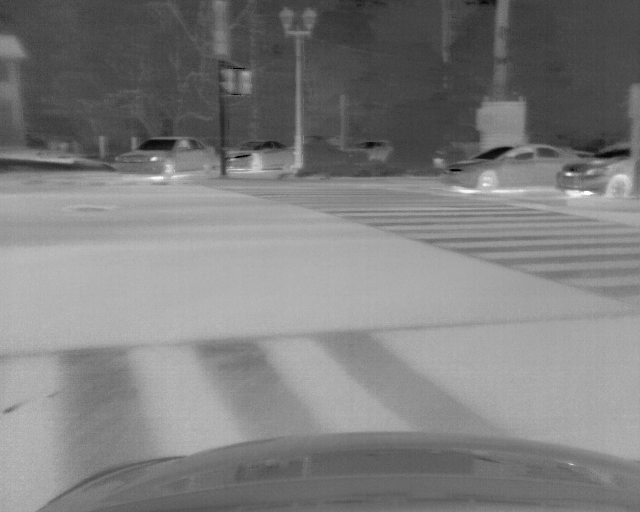car: (441, 142, 584, 191), (113, 136, 221, 181), (560, 143, 640, 200), (229, 140, 294, 172), (343, 136, 394, 162)
